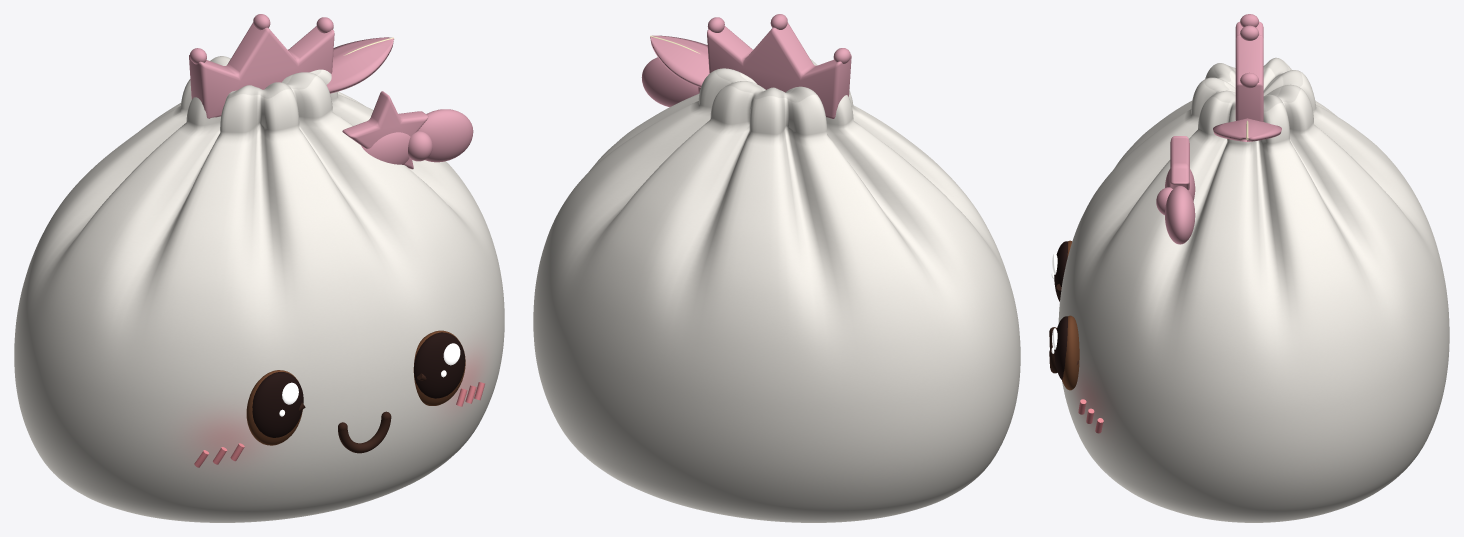
The model's file is bao-squishy.glb.
3 views of the same model, side by side, from view 1: azimuth 30°, elevation 25°; view 2: azimuth 150°, elevation 25°; view 3: azimuth 270°, elevation 25° (orthographic). The views are drawn at different scales.
Visible parts, largest first — view 1: Dough, Rounded crown, PupilL, PupilR, Satin leaf, Puffy star charm, Bow soft loop.001, Bow soft loop, Smile, IrisL, Painted cheeks, Bow knot (+1 smaller); view 2: Dough, Rounded crown, Satin leaf, Bow soft loop.001; view 3: Dough, Rounded crown, Bow soft loop.001, Satin leaf, Puffy star charm, IrisR, PupilR, PupilL.
Part boxes in pixels (x1=…): Dough: x1=14, y1=49, x2=504, y2=522; Rounded crown: x1=189, y1=22, x2=334, y2=118; PupilL: x1=252, y1=372, x2=303, y2=437; PupilR: x1=414, y1=332, x2=465, y2=398; Satin leaf: x1=326, y1=37, x2=393, y2=93; Puffy star charm: x1=342, y1=91, x2=428, y2=169; Bow soft loop.001: x1=418, y1=109, x2=473, y2=162; Bow soft loop: x1=361, y1=132, x2=410, y2=164; Smile: x1=338, y1=411, x2=391, y2=453; IrisL: x1=246, y1=370, x2=302, y2=445; Painted cheeks: x1=194, y1=382, x2=484, y2=467; Bow knot: x1=408, y1=131, x2=432, y2=161; Dough: x1=533, y1=59, x2=1020, y2=522; Rounded crown: x1=707, y1=22, x2=851, y2=118; Satin leaf: x1=650, y1=35, x2=709, y2=87; Bow soft loop.001: x1=641, y1=57, x2=698, y2=107; Dough: x1=1058, y1=57, x2=1449, y2=522; Rounded crown: x1=1235, y1=21, x2=1263, y2=121; Bow soft loop.001: x1=1165, y1=186, x2=1195, y2=244; Satin leaf: x1=1213, y1=118, x2=1281, y2=141; Puffy star charm: x1=1170, y1=136, x2=1189, y2=190; IrisR: x1=1062, y1=315, x2=1079, y2=390; PupilR: x1=1054, y1=316, x2=1067, y2=379; PupilL: x1=1054, y1=241, x2=1067, y2=301.
Bounding box in the file's own units: 1.13 × 1.09 × 0.9207.
8 materials, 1 textured.
